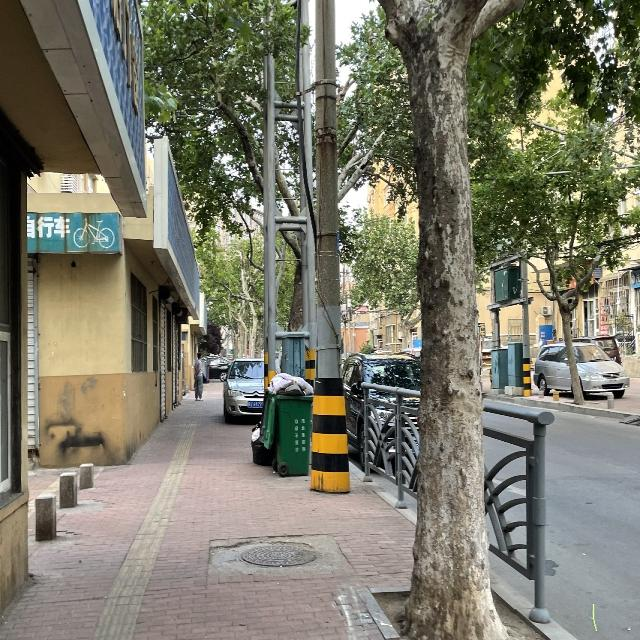garbage: (251, 422, 273, 466)
overflow: (260, 371, 313, 474)
